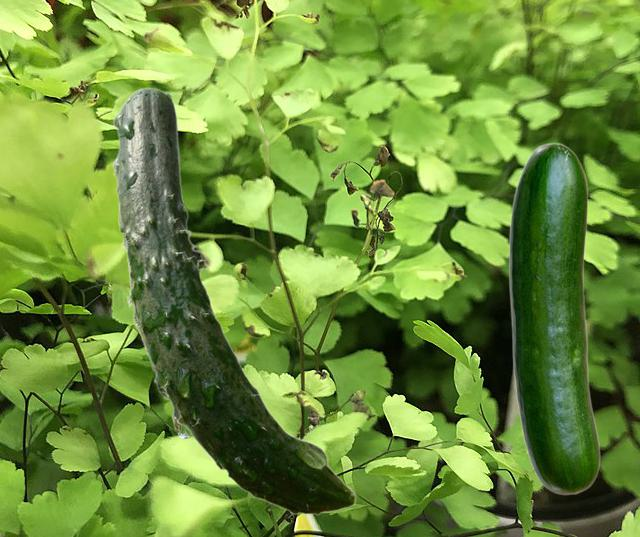cucumber: (111, 87, 355, 514), (508, 142, 599, 494)
